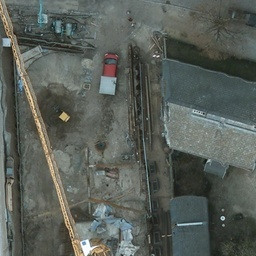car: (101, 51, 119, 79)
